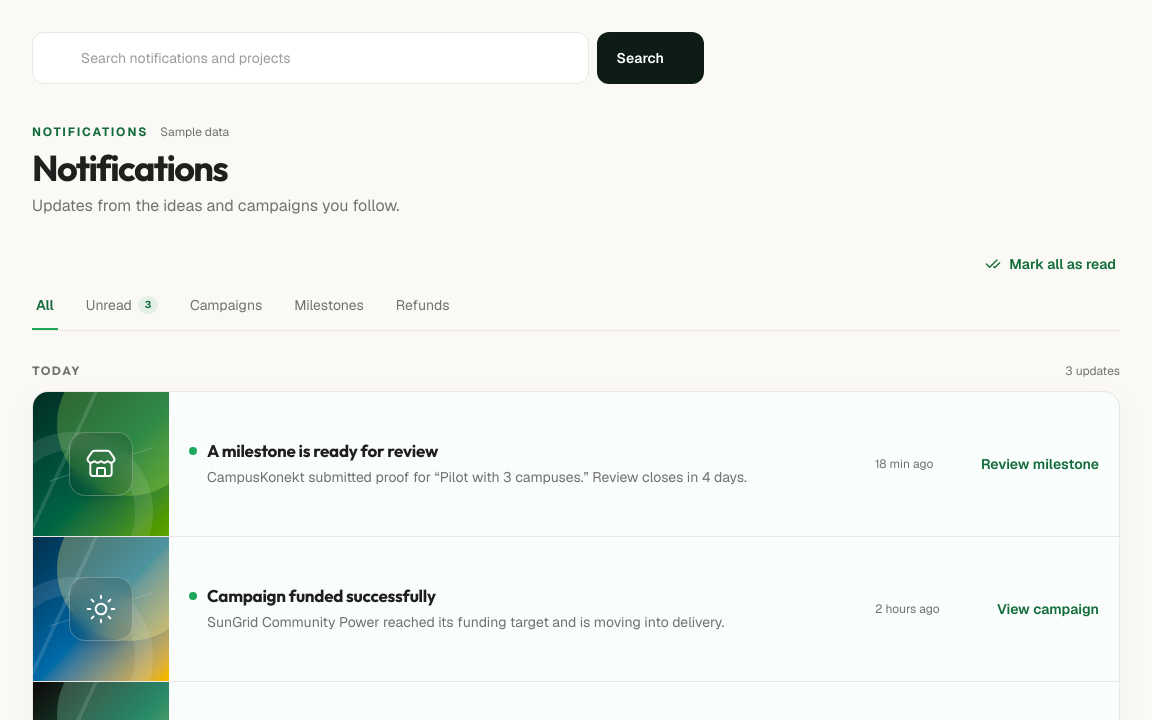
NotificationsDashboard › marks every notification as read without navigating
The width and height of the screenshot is (1152, 720).
Click the button "Mark all as read". click: (1051, 264)
box: [981,242,1120,286]
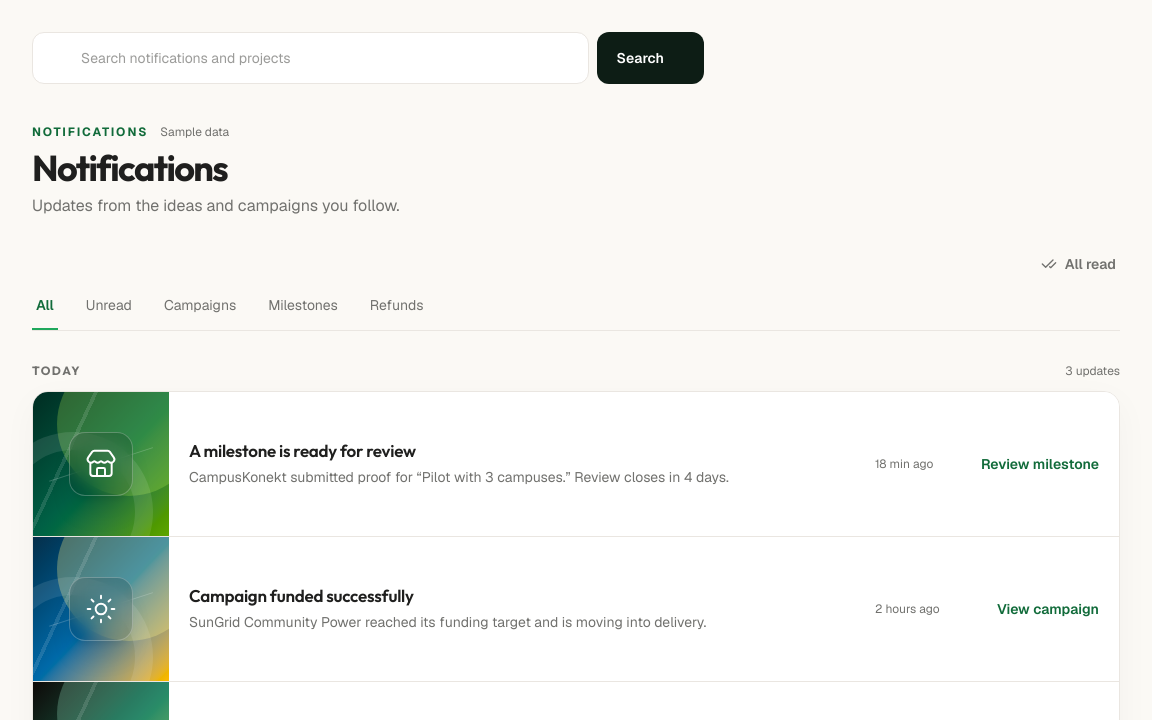
Expected: no fields labelled "Unread" are shown
Expected: the button "All read" is disabled, [1037,242,1120,286]
